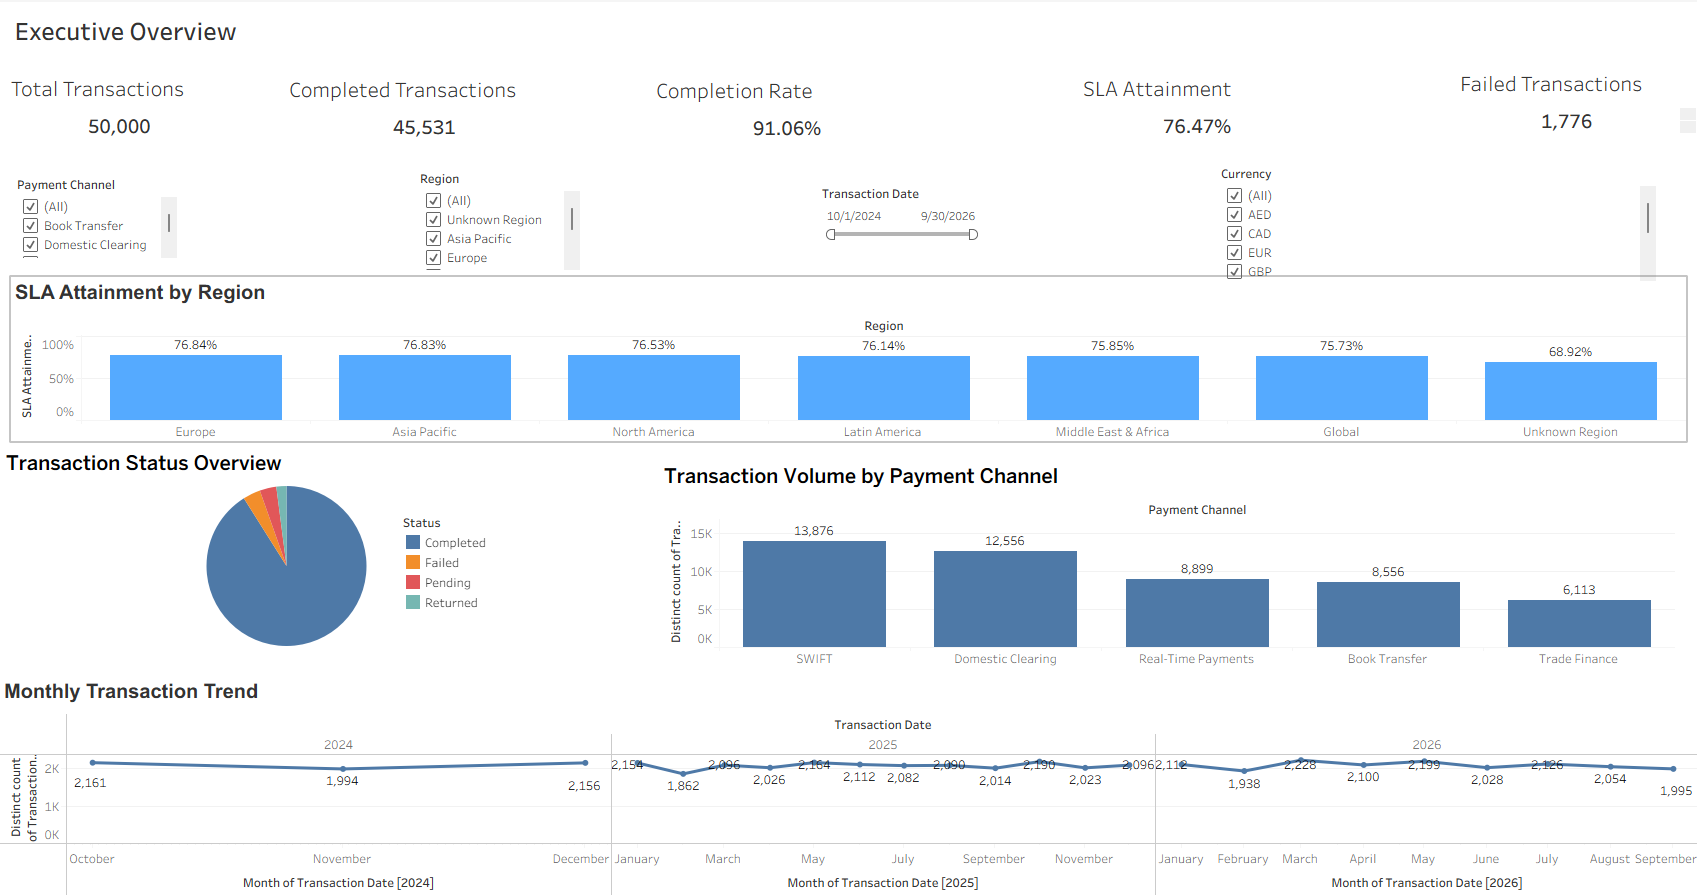

This screenshot's page, from the dashboard's own definition file:
{"tool":"tableau","page":{"name":"Executive Overview","canvas":[1000,1000],"units":"permille","ordinal":1},"visuals":[{"type":"title","box":[4.7,8.9,990.6,45.8]},{"type":"worksheet","title":"Failed Transactions","mark":"Automatic","box":[852,70.3,140.4,75.9]},{"type":"worksheet","title":"KPI – Total Transactions","mark":"Automatic","box":[4.1,75.9,131.7,90.4]},{"type":"worksheet","title":"SLA Attainment","mark":"Automatic","box":[631.4,75.9,139.3,83.7]},{"type":"worksheet","title":"Completed Transactions","mark":"Automatic","box":[166.8,77,163.2,83.7]},{"type":"worksheet","title":"Completion Rate","mark":"Automatic","box":[381.5,78.1,158.6,85.9]},{"type":"filter","title":"Transaction Volume by Channel","param":"[federated.0pb43j907aj0ad1bkzezx1xp1x8t].[none:Currency:nk]","box":[714.5,181.9,254.5,129.5]},{"type":"filter","title":"Transaction Volume by Channel","param":"[federated.0pb43j907aj0ad1bkzezx1xp1x8t].[none:Region:nk]","box":[245.8,187.5,93.6,111.6]},{"type":"filter","title":"Transaction Volume by Channel","param":"[federated.0pb43j907aj0ad1bkzezx1xp1x8t].[none:PaymentChannel:nk]","box":[10,194.2,93.6,91.5]},{"type":"filter","title":"Transaction Volume by Channel","param":"[federated.0pb43j907aj0ad1bkzezx1xp1x8t].[none:TransactionDate:qk]","box":[481,204.2,93.6,68.1]},{"type":"worksheet","title":"SLA Attainment by Region","mark":"Bar","rows":["Calculation_0412106123812865"],"cols":["Region"],"box":[6.4,306.9,980.1,183]},{"type":"worksheet","title":"Transaction Status Distribution","mark":"Pie","box":[1.2,496.7,332.9,244.4]},{"type":"worksheet","title":"Transaction Volume by Channel","mark":"Bar","rows":["TransactionID"],"cols":["PaymentChannel"],"box":[386.2,511.2,593.9,253.3]},{"type":"legend","title":"Transaction Status Distribution","param":"[federated.0pb43j907aj0ad1bkzezx1xp1x8t].[none:Status:nk]","box":[235.8,571.4,81.9,109.4]},{"type":"worksheet","title":"Monthly Transaction Trend","mark":"Line","rows":["TransactionID"],"cols":["TransactionDate","TransactionDate"],"box":[0,752.2,995.3,248.9]}]}

Visuals, with their boxes on the dashboard's canvas, which has no fixed pixel size, in thousandths of its width and height (x1, y1, x2, y2). These are canvas units, not pixel positions in the 1697x895 screenshot, which may show the page scaled, cropped or inside an application window:
title: [5,9,995,55]
"Failed Transactions" worksheet: [852,70,992,146]
"KPI – Total Transactions" worksheet: [4,76,136,166]
"SLA Attainment" worksheet: [631,76,771,160]
"Completed Transactions" worksheet: [167,77,330,161]
"Completion Rate" worksheet: [382,78,540,164]
"Transaction Volume by Channel" filter: [714,182,969,311]
"Transaction Volume by Channel" filter: [246,188,339,299]
"Transaction Volume by Channel" filter: [10,194,104,286]
"Transaction Volume by Channel" filter: [481,204,575,272]
"SLA Attainment by Region" worksheet (Bar marks): [6,307,986,490]
"Transaction Status Distribution" worksheet (Pie marks): [1,497,334,741]
"Transaction Volume by Channel" worksheet (Bar marks): [386,511,980,764]
"Transaction Status Distribution" legend: [236,571,318,681]
"Monthly Transaction Trend" worksheet (Line marks): [0,752,995,1001]
